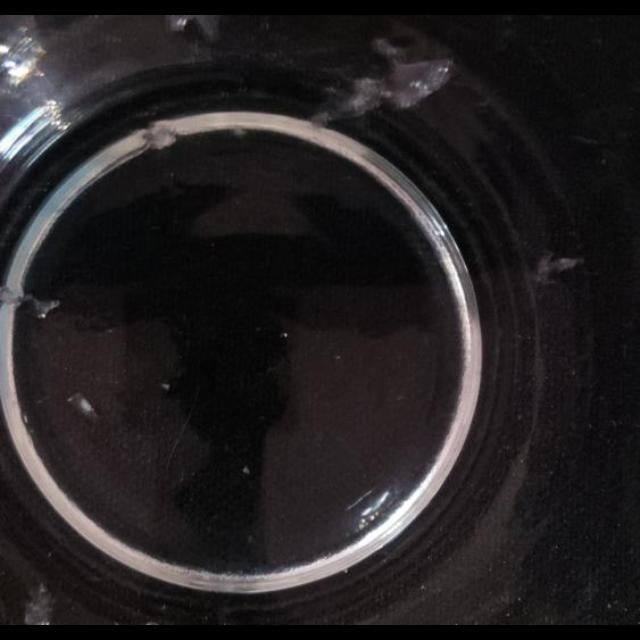Fibre: (21, 582, 55, 626), (538, 253, 580, 279), (143, 124, 180, 150), (67, 391, 97, 419), (30, 296, 60, 318)
microbeads: (160, 382, 170, 392), (242, 466, 250, 474), (280, 331, 288, 339)
